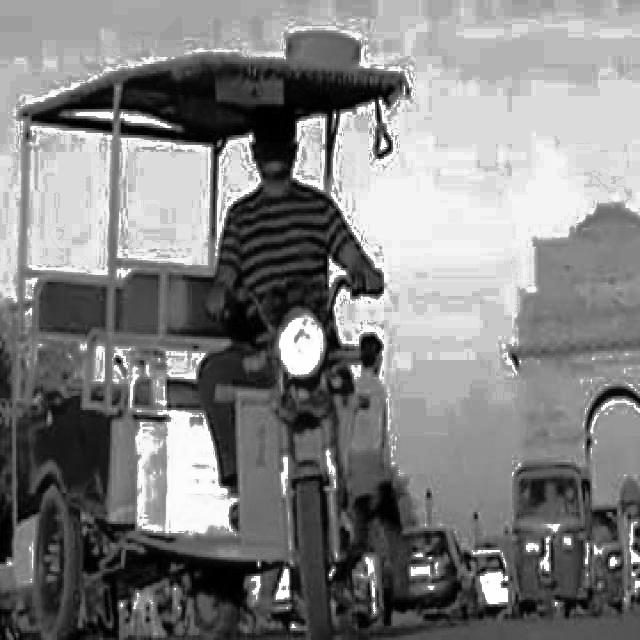Toto: (0, 55, 408, 640)
